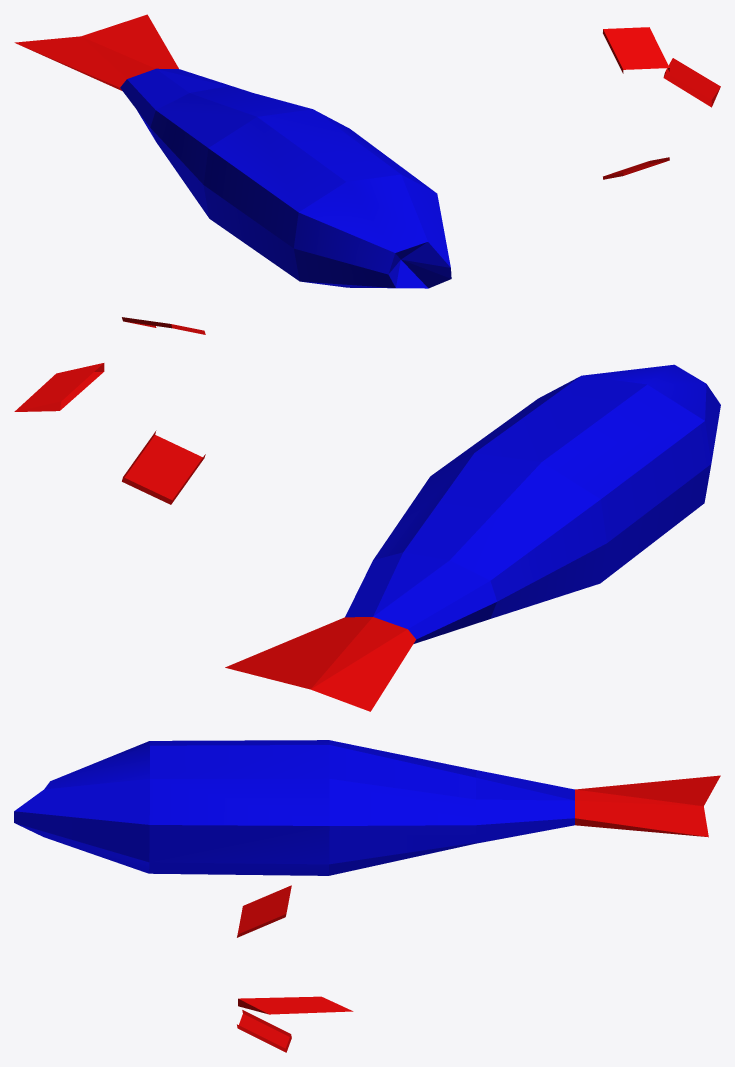
Rendered from fisch_low_explosion.fbx.
3 views of the same model, one above another, from view 1: azimuth 30°, elevation 25°; view 2: azimuth 150°, elevation 25°; view 3: azimuth 270°, elevation 25° (orthographic). The views are drawn at different scales.
Visible parts, largest first — view 1: polySurface6; view 2: polySurface6; view 3: polySurface6.
Boxes of the visible parts, bbox=[...] form: polySurface6: bbox=[14, 14, 720, 288]; polySurface6: bbox=[14, 317, 720, 711]; polySurface6: bbox=[14, 740, 720, 1052].
Bounding box in the file's own units: 0.5163 × 0.1524 × 0.6382.
